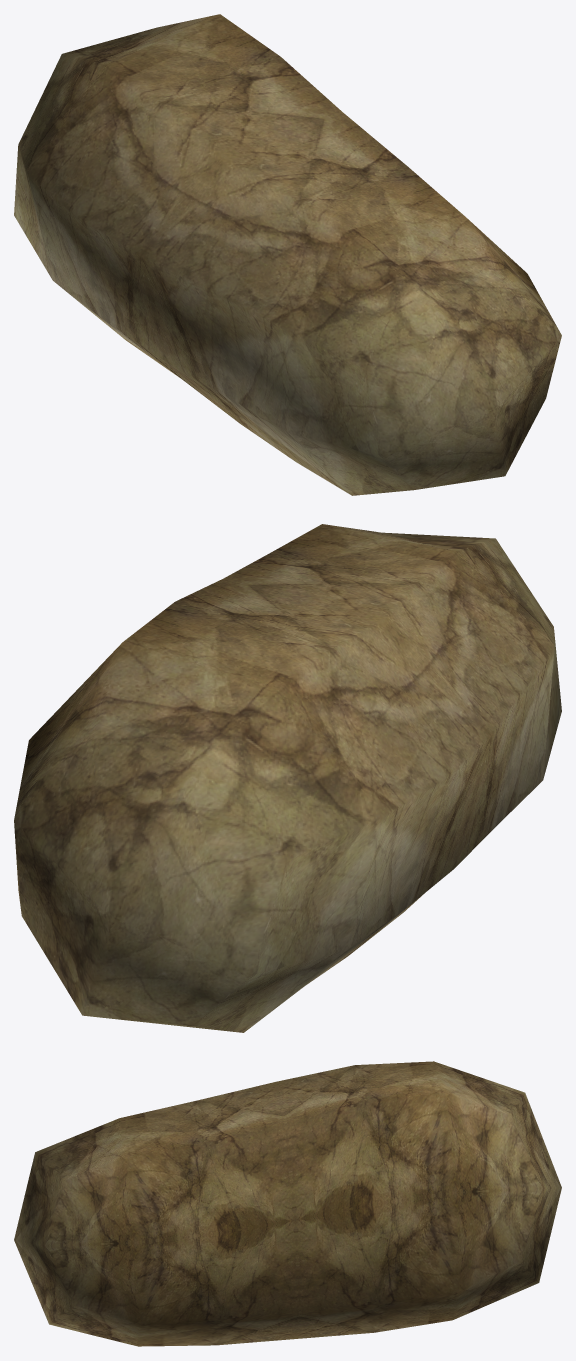
File: Rock05.FBX
3 views of the same model, one above another, from view 1: azimuth 30°, elevation 25°; view 2: azimuth 150°, elevation 25°; view 3: azimuth 270°, elevation 25° (orthographic). The views are drawn at different scales.
Parts seen in each view (by area): view 1: Rock05; view 2: Rock05; view 3: Rock05.
Boxes of the visible parts, left/top/right/bottom form: Rock05: left=14, top=14, right=561, bottom=495; Rock05: left=14, top=524, right=561, bottom=1032; Rock05: left=14, top=1061, right=561, bottom=1346.
Bounding box in the file's own units: 1192 × 1130 × 2284.
